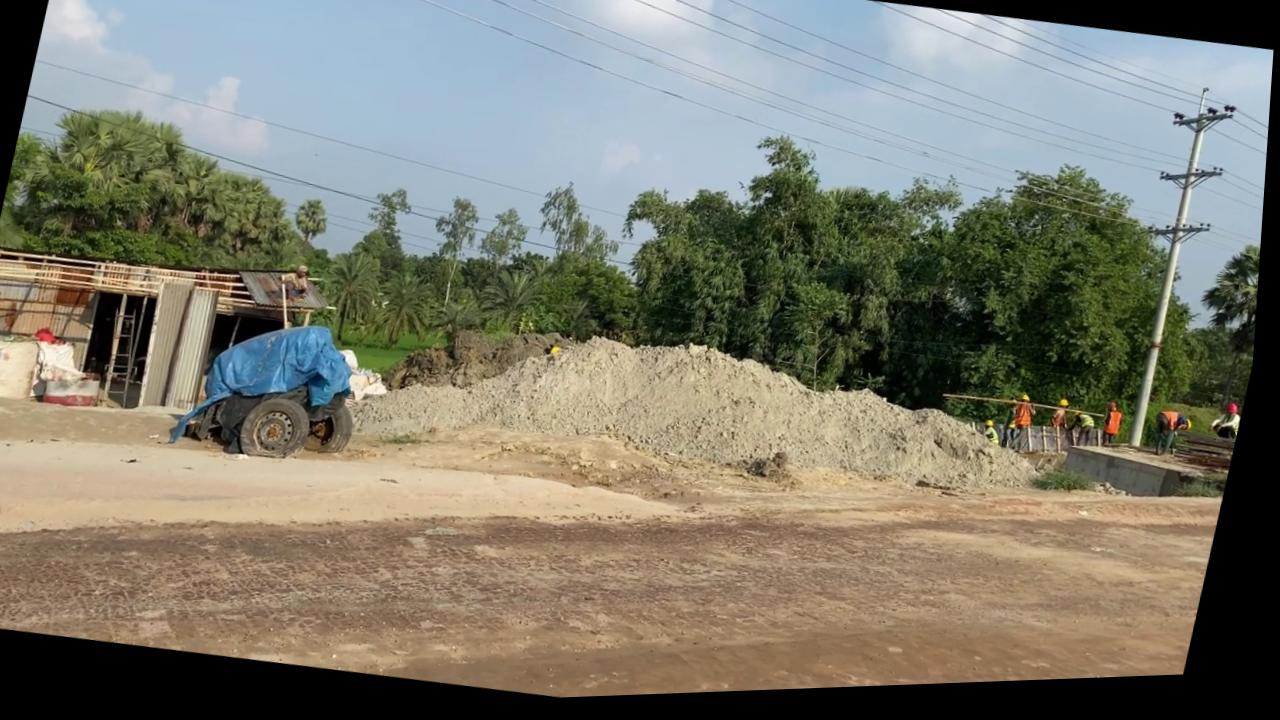Garbage: (399, 296, 1034, 533)
Light-pole: (1105, 93, 1243, 461)
Obstacle: (1017, 426, 1073, 467)
Pole: (1129, 100, 1221, 457)
Traffic-sign: (1182, 242, 1265, 426)
Tree: (170, 305, 381, 476)
